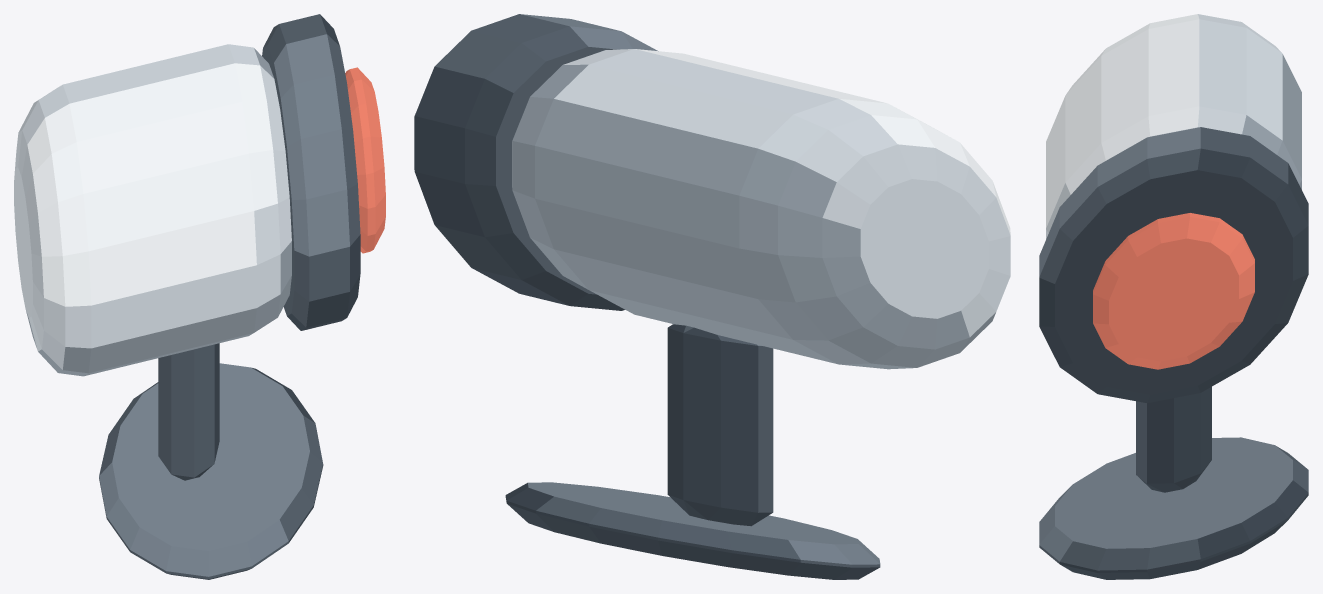
Rendered from Laser_Right.gltf.
The picture shows the model from 3 angles, left to right: view 1: azimuth 30°, elevation 25°; view 2: azimuth 150°, elevation 25°; view 3: azimuth 270°, elevation 25°; orthographic projection. The views are drawn at different scales.
Parts seen in each view (by area): view 1: Laser_Right_baked; view 2: Laser_Right_baked; view 3: Laser_Right_baked.
Part boxes in pixels (x1=…): Laser_Right_baked: x1=14, y1=14, x2=385, y2=579; Laser_Right_baked: x1=414, y1=14, x2=1010, y2=579; Laser_Right_baked: x1=1039, y1=14, x2=1308, y2=579.
Bounding box in the file's own units: 0.7224 × 0.781 × 0.3923.
